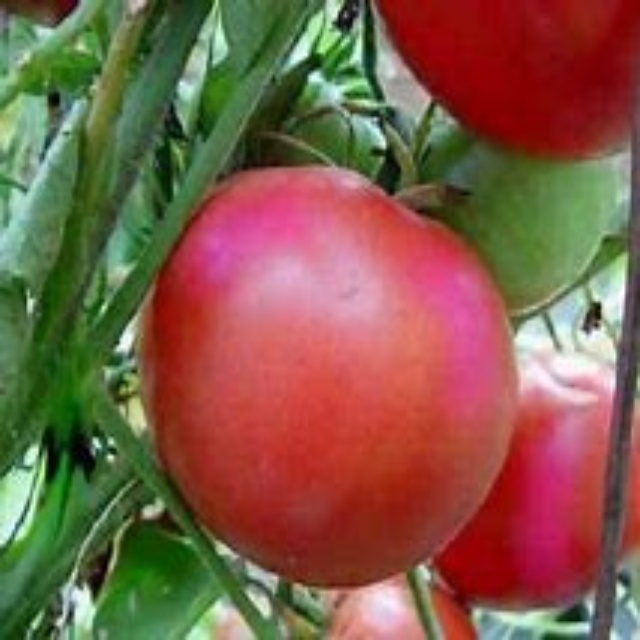tomato: (135, 171, 508, 579), (444, 337, 639, 609), (364, 2, 639, 166)
